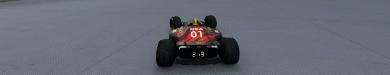Car: (155, 14, 239, 67)
